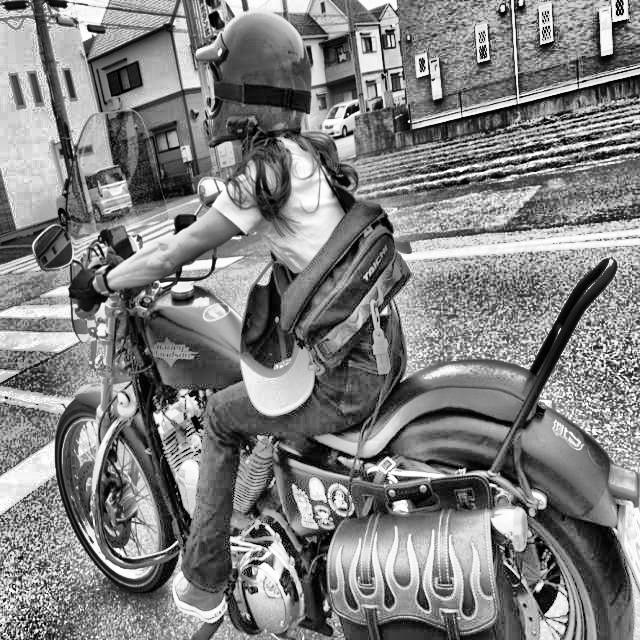Helmet: (190, 7, 316, 154)
